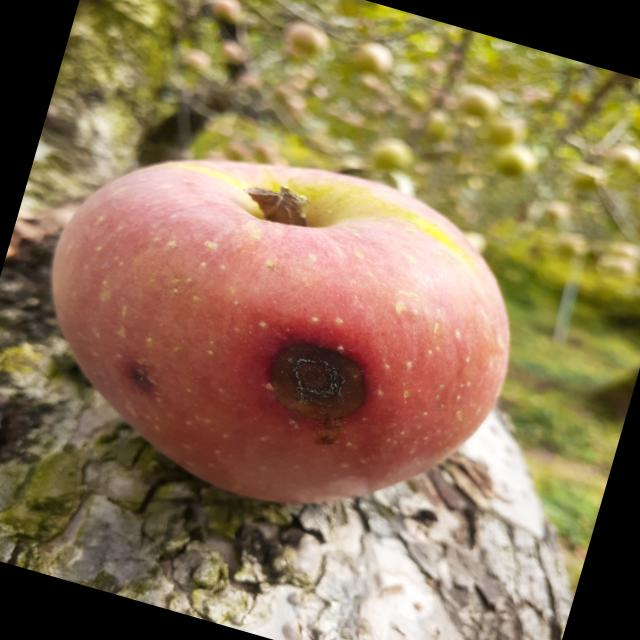rotten: (1, 83, 561, 574)
